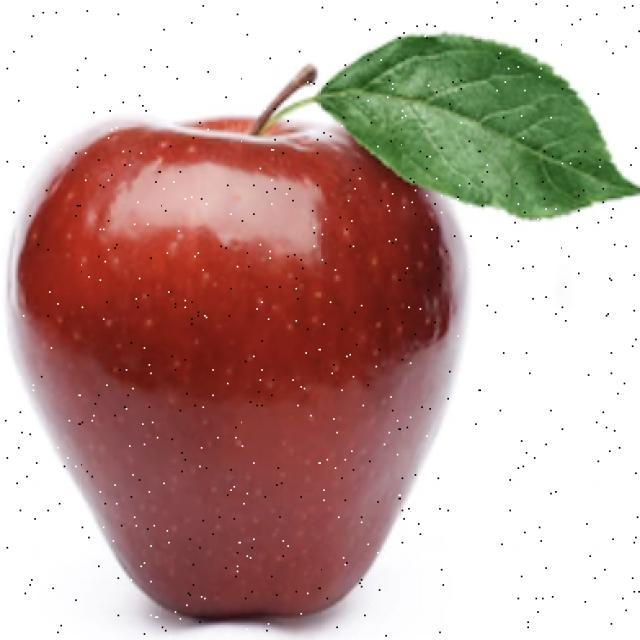Fresh Apple: (48, 115, 457, 625)
